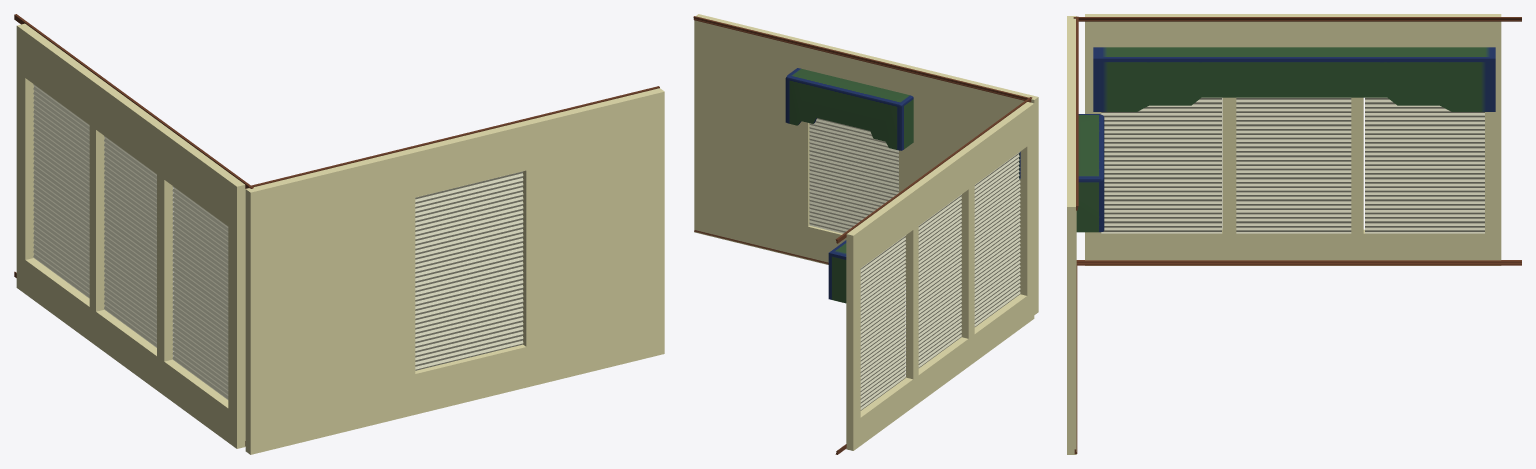
The model's file is walls with windows and covers.fbx.
The picture shows the model from 3 angles, left to right: view 1: azimuth 30°, elevation 25°; view 2: azimuth 150°, elevation 25°; view 3: azimuth 270°, elevation 25°; orthographic projection. The views are drawn at different scales.
Visible parts, largest first — view 1: pCube19, pCube3, shade3, shade, shade2, shade1, pCube9, pCube12; view 2: pCube19, pCube3, shade3, shade2, shade, windowCOver1, shade1, pCube9, windowCOver, pCube12; view 3: pCube3, windowCOver, shade1, shade, shade2, pCube19, windowCOver1, pCube13, pCube12, pCube9.
Part boxes in pixels (box(x1,y1,x2,y2)): pCube19: box(245, 88, 664, 454); pCube3: box(16, 23, 245, 448); shade3: box(415, 171, 523, 370); shade: box(33, 84, 89, 298); shade2: box(172, 186, 228, 399); shade1: box(104, 136, 156, 347); pCube9: box(248, 86, 659, 188); pCube12: box(14, 14, 253, 188); pCube19: box(694, 14, 1038, 314); pCube3: box(846, 102, 1034, 450); shade3: box(809, 118, 898, 233); shade2: box(974, 152, 1020, 326); shade: box(860, 235, 905, 410); windowCOver1: box(785, 68, 913, 150); shade1: box(918, 194, 961, 367); pCube9: box(693, 16, 1031, 102); windowCOver: box(828, 151, 1020, 303); pCube12: box(835, 97, 1032, 243); pCube3: box(1085, 14, 1501, 265); windowCOver: box(1093, 47, 1495, 111); shade1: box(1236, 97, 1351, 233); shade: box(1365, 97, 1484, 233); shade2: box(1101, 97, 1221, 233); pCube19: box(1067, 16, 1076, 454); windowCOver1: box(1076, 114, 1104, 232); pCube13: box(1076, 260, 1521, 265); pCube12: box(1073, 17, 1521, 21); pCube9: box(1076, 16, 1078, 210).
Bounding box in the file's own units: 13.56 × 8.15 × 13.5.
4 materials, 1 textured.
